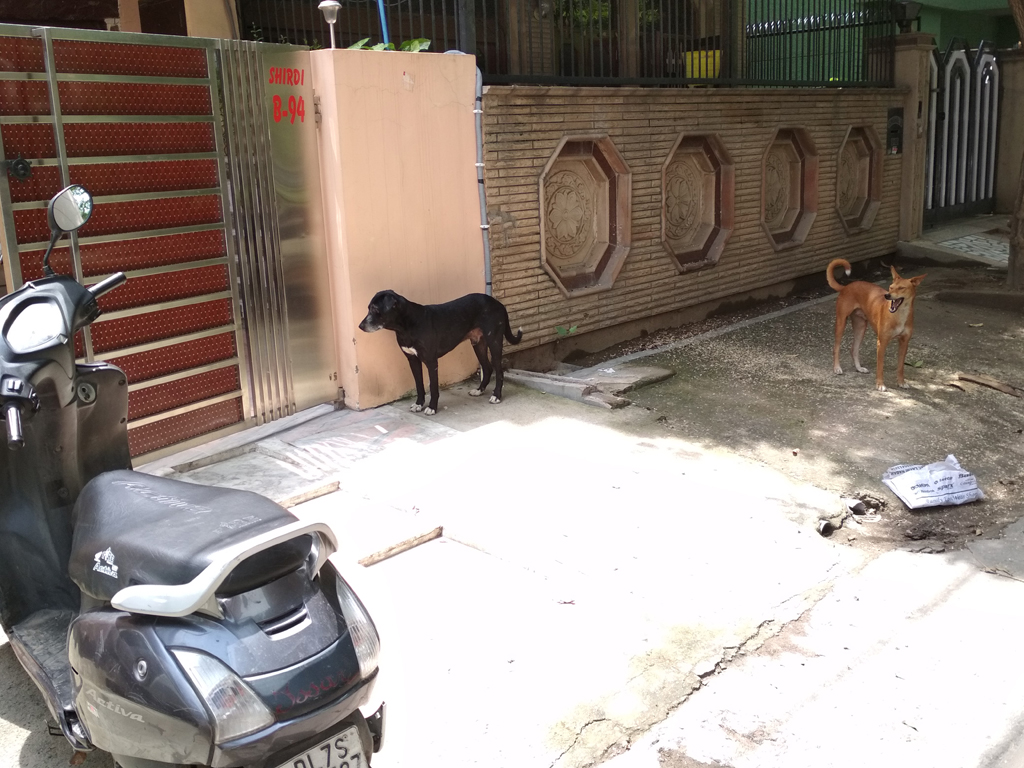dog: (358, 289, 524, 414), (825, 258, 927, 391)
